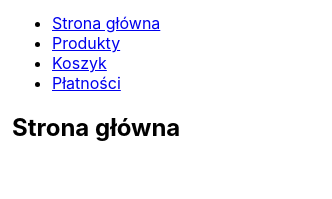
Test: E-commerce App › should display 'No items in cart' when cart is empty
Click the link "Koszyk".
click(80, 63)  # box [52,53,107,73]
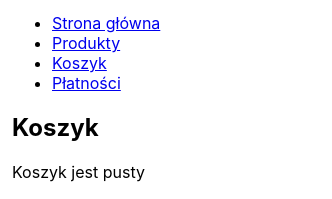
Check: the text "Koszyk jest pusty" is shown, box [12,162,145,182]
